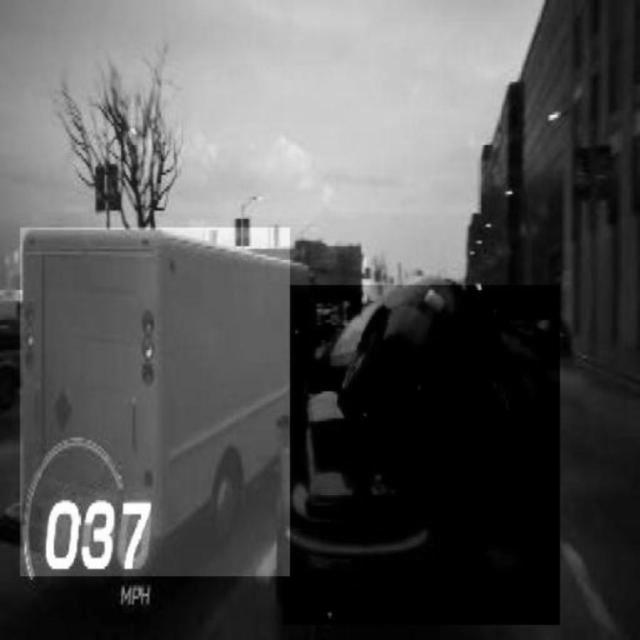accident: (282, 285, 560, 625)
vehicle: (21, 228, 291, 576)
